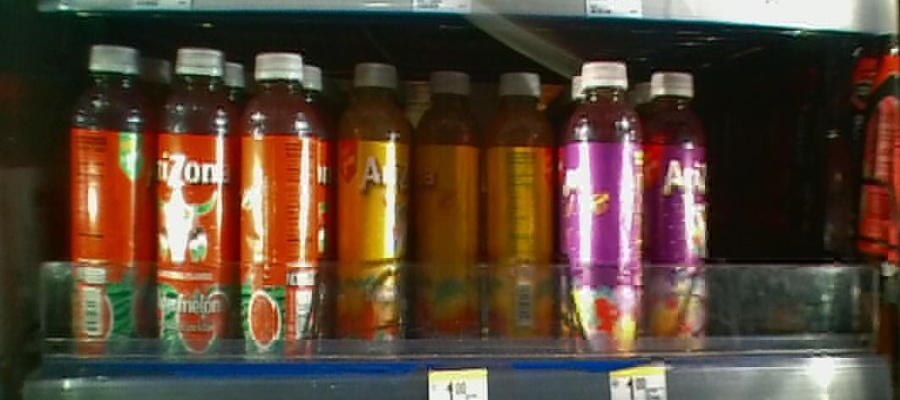bottle: (65, 31, 154, 383), (158, 39, 239, 388), (241, 45, 318, 370), (564, 57, 642, 365), (411, 43, 482, 367), (338, 64, 412, 357), (484, 49, 554, 357), (643, 53, 710, 363)
